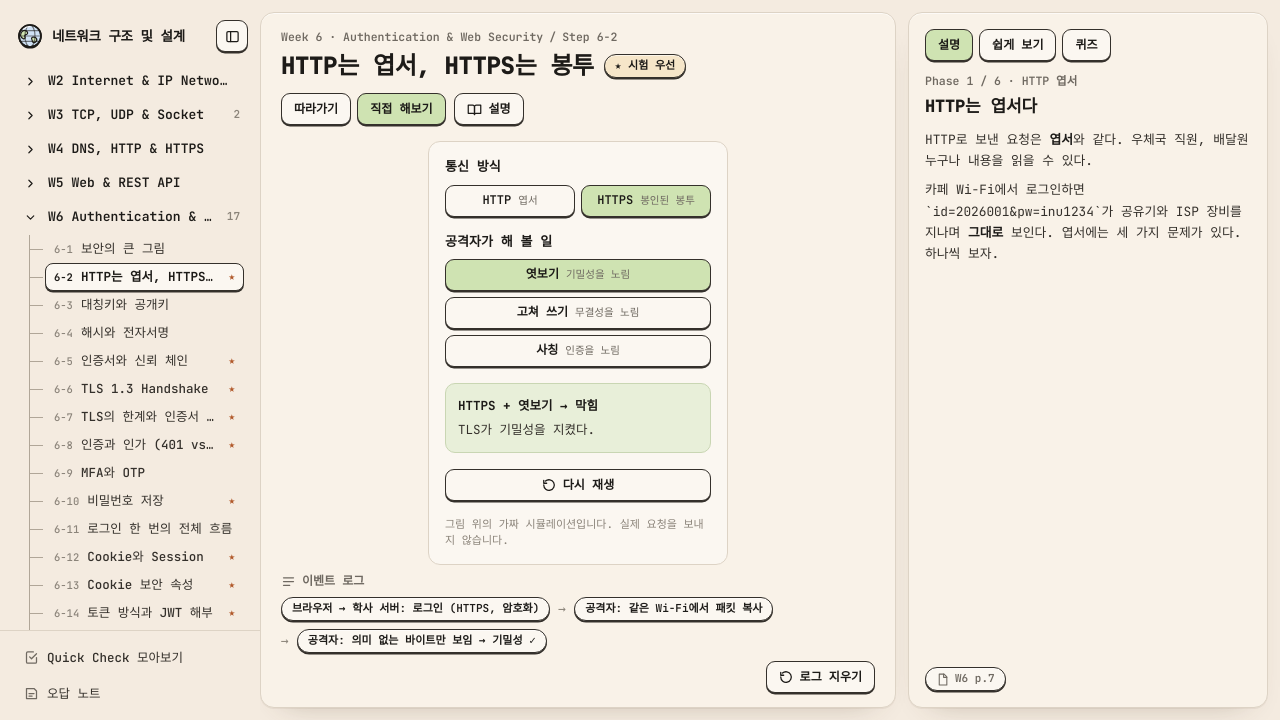
Test: 6-2 HTTP는 엽서, HTTPS는 봉투 › 직접 해보기: HTTP 엿보기는 성공, HTTPS로 바꾸면 막히고 로그도 바뀐다
Earlier steps of the test are not shown.
(page scrolled)
Expected: the text "HTTPS + 엿보기 → 막힘" is shown, top-left (458, 397), bottom-right (598, 414)
Expected: the footer "이벤트 로그" shows "기밀성 ✓", top-left (308, 633), bottom-right (536, 647)
Click the button "사칭 인증을 노림". click: click(578, 351)
box: top-left (445, 335), bottom-right (711, 367)
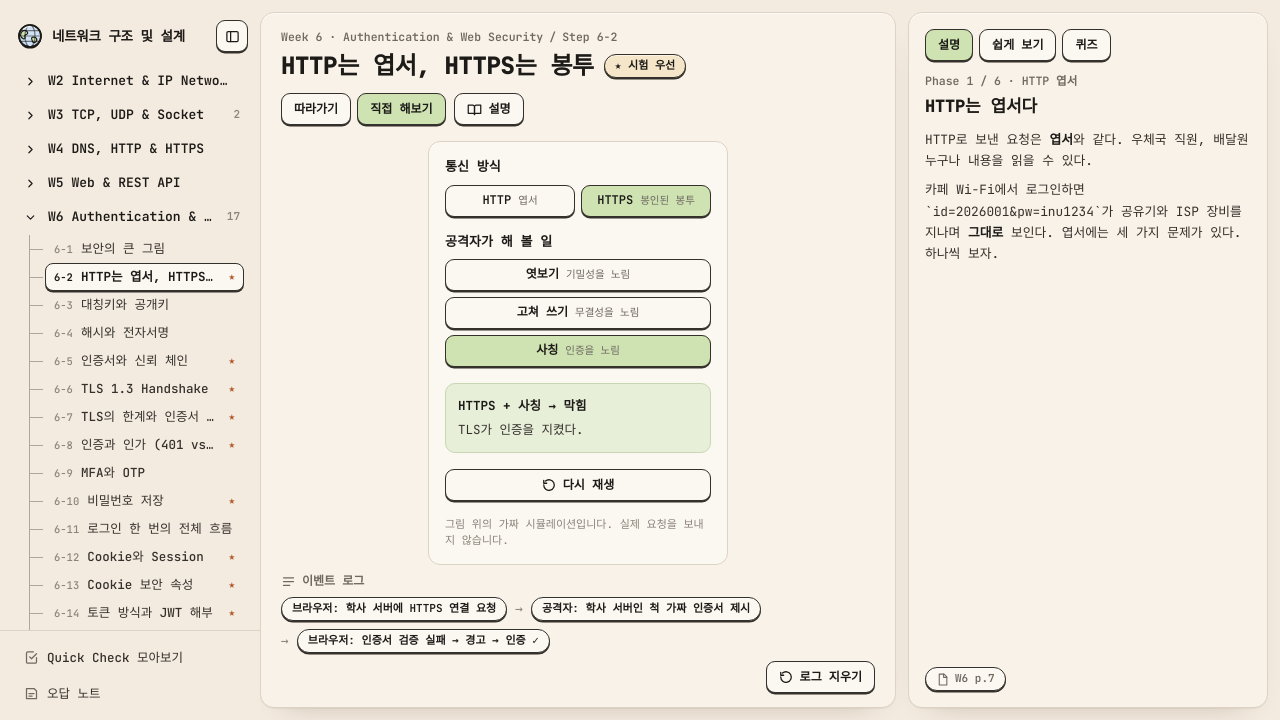
Now the footer "이벤트 로그" shows "인증서 검증 실패", box top-left (308, 633), bottom-right (539, 647)
